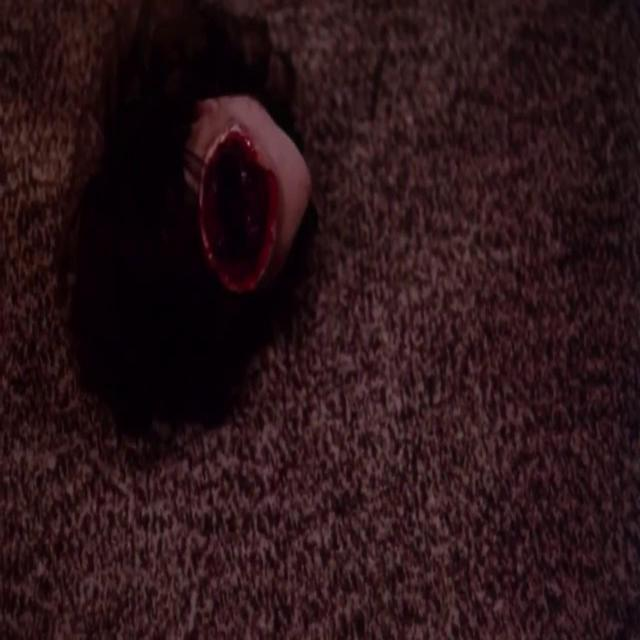flood: (164, 107, 304, 316)
